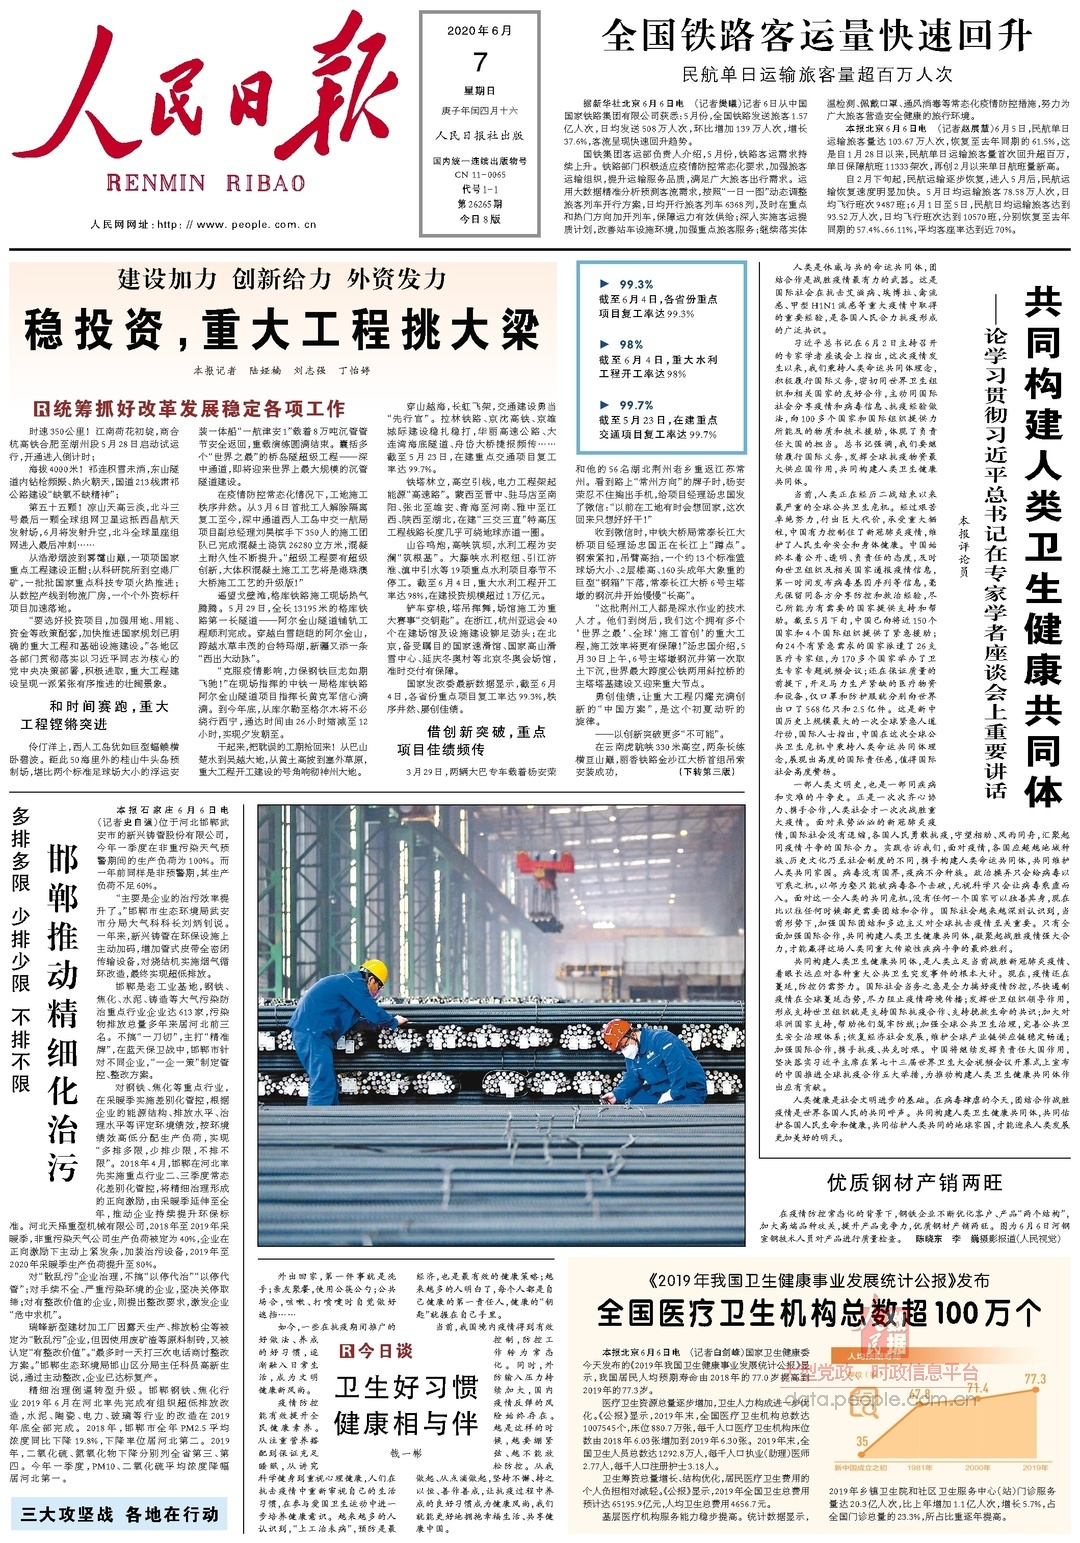pic: (253, 801, 750, 1251)
